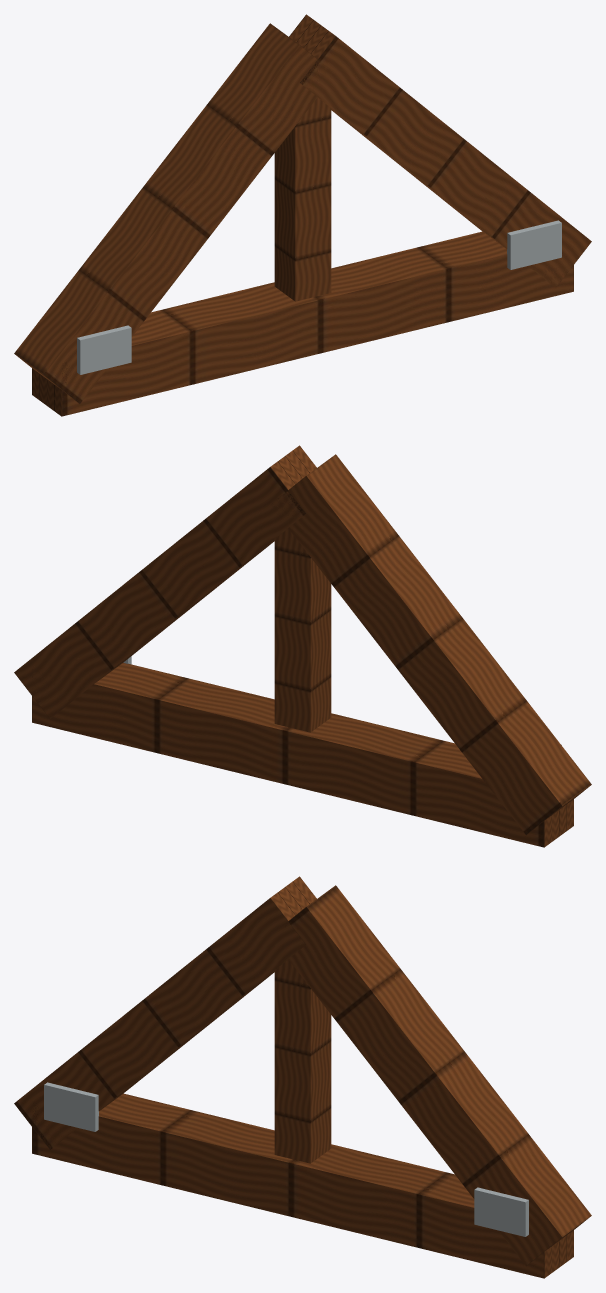
Rendered from prehistoric-survivor-settlement-longhouse-king-truss-467e1500__23195.glb.
3 views of the same model, one above another, from view 1: azimuth 30°, elevation 25°; view 2: azimuth 150°, elevation 25°; view 3: azimuth 330°, elevation 25° (orthographic).
Visible parts, largest first — view 1: longhouse-king-truss; view 2: longhouse-king-truss; view 3: longhouse-king-truss.
Boxes of the visible parts, x1,y1,x2,y2 form: longhouse-king-truss: (14, 14, 591, 416); longhouse-king-truss: (14, 445, 591, 847); longhouse-king-truss: (14, 876, 591, 1278).
Size of the model in its own units: 2.14 by 1.17 by 0.2225.
Materials: 2 (1 with a texture image).
